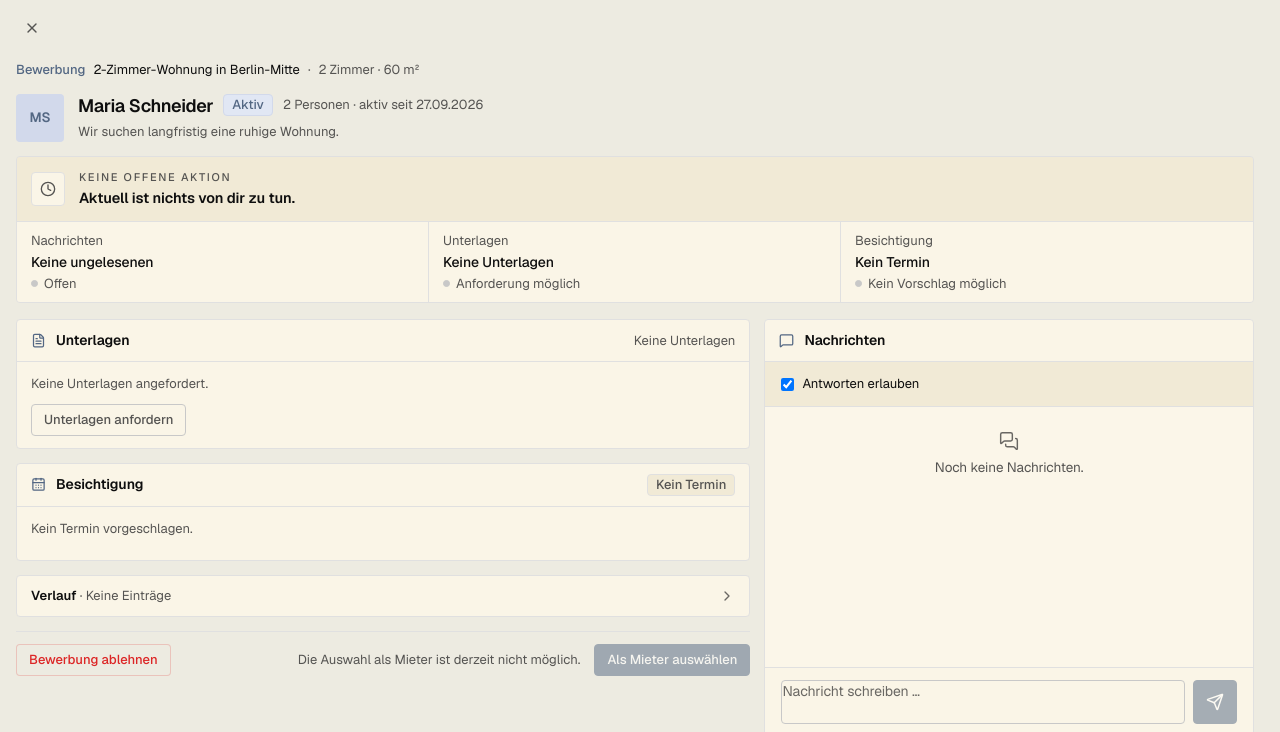
Test case: ApplicantWorkspaceView on wide viewports › keeps the document selection when the request fails
What coordinates should you click on to do the following:
click the button "Unterlagen anfordern"
I would click on:
 (109, 420)
Its box is [31,404,186,436].
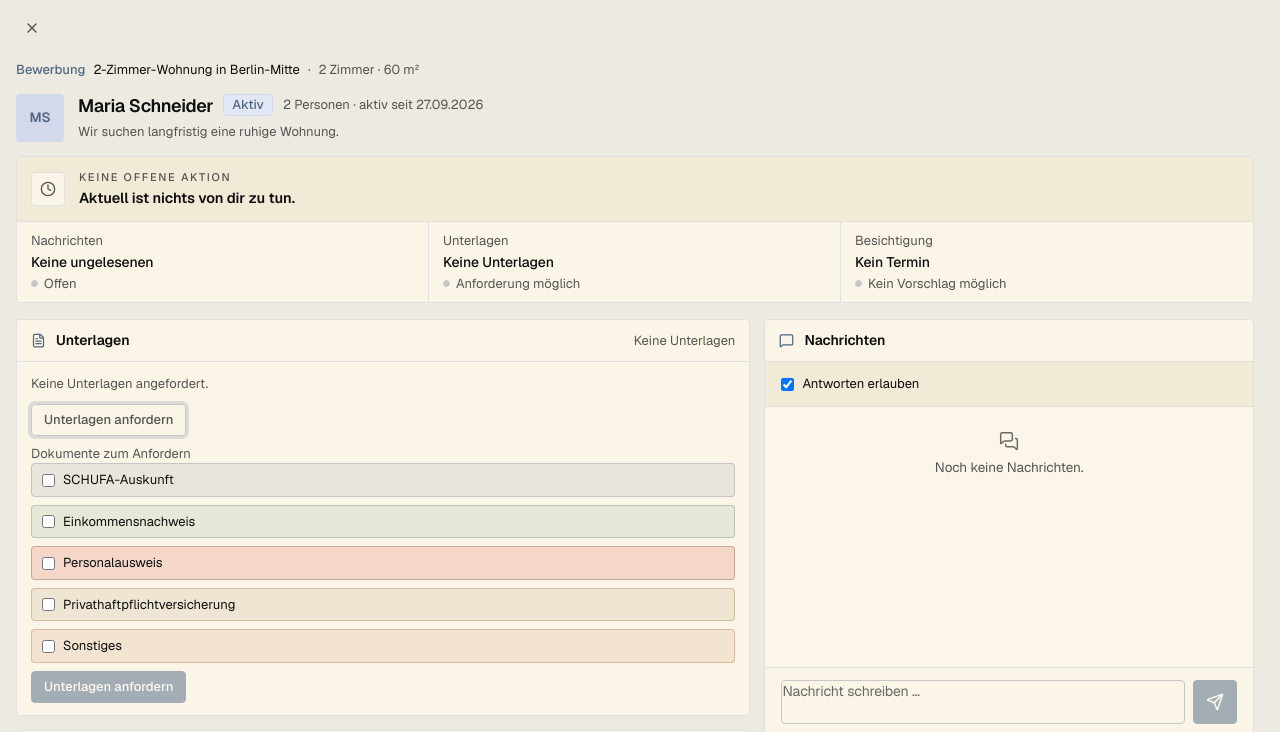
What coordinates should you click on to do the following:
click the checkbox labelled "SCHUFA-Auskunft"
I would click on:
 (48, 480)
Its box is [42,474,55,487].
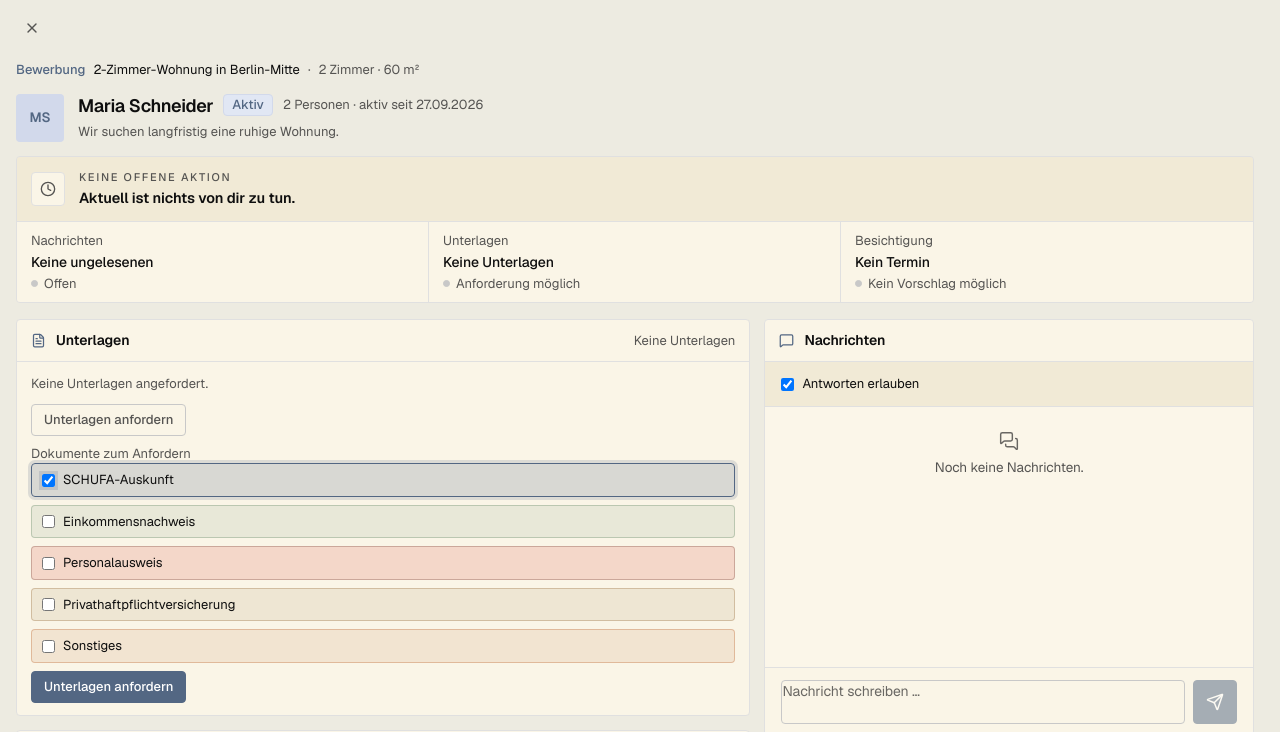
What coordinates should you click on to do the following:
click the button "Unterlagen anfordern" below "Sonstiges"
I would click on:
 (109, 687)
Its box is [31,671,186,703].
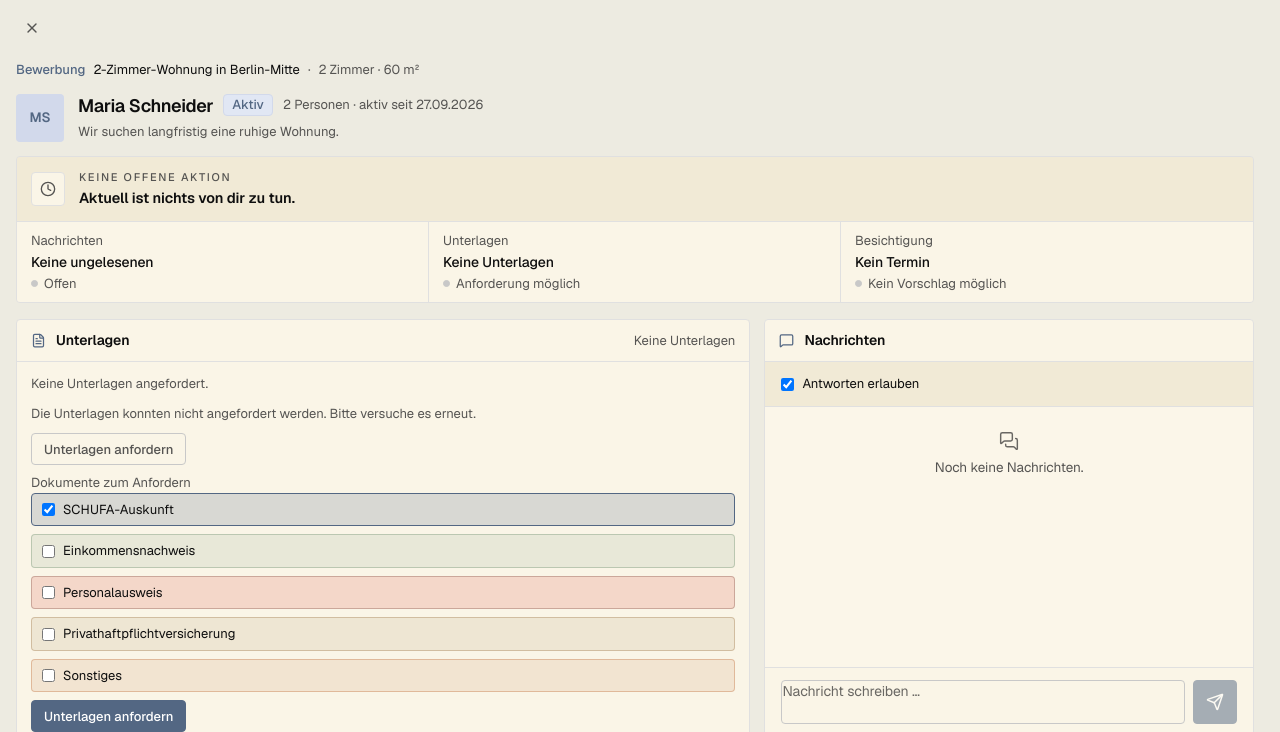
Expected: the checkbox labelled "SCHUFA-Auskunft" is checked, [42,503,55,516]
Expected: the text "Die Unterlagen konnten nicht angefordert werden. Bitte versuche es erneut." is shown, [31,405,476,422]
